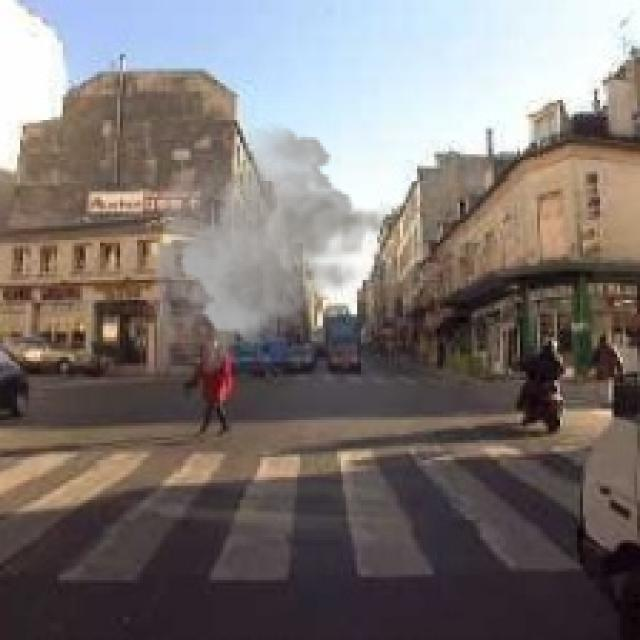Smoke: (146, 122, 403, 378)
